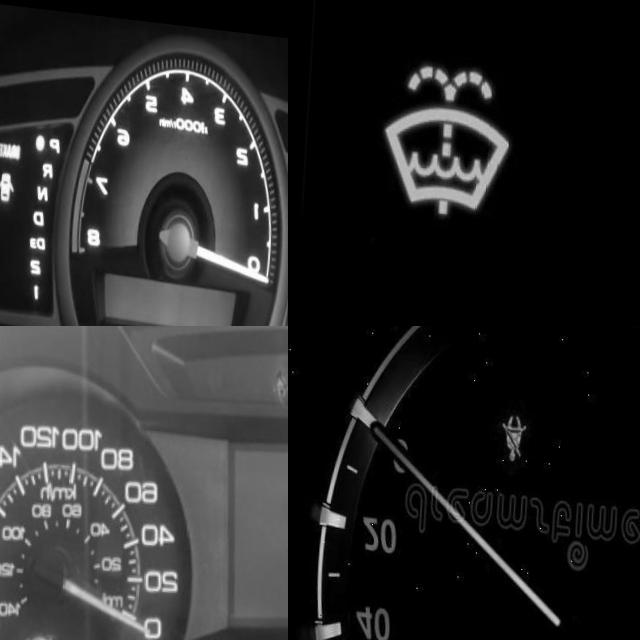Seat Belt: (503, 405, 531, 457), (270, 353, 288, 396)
Washer Fluid: (384, 52, 516, 210)
